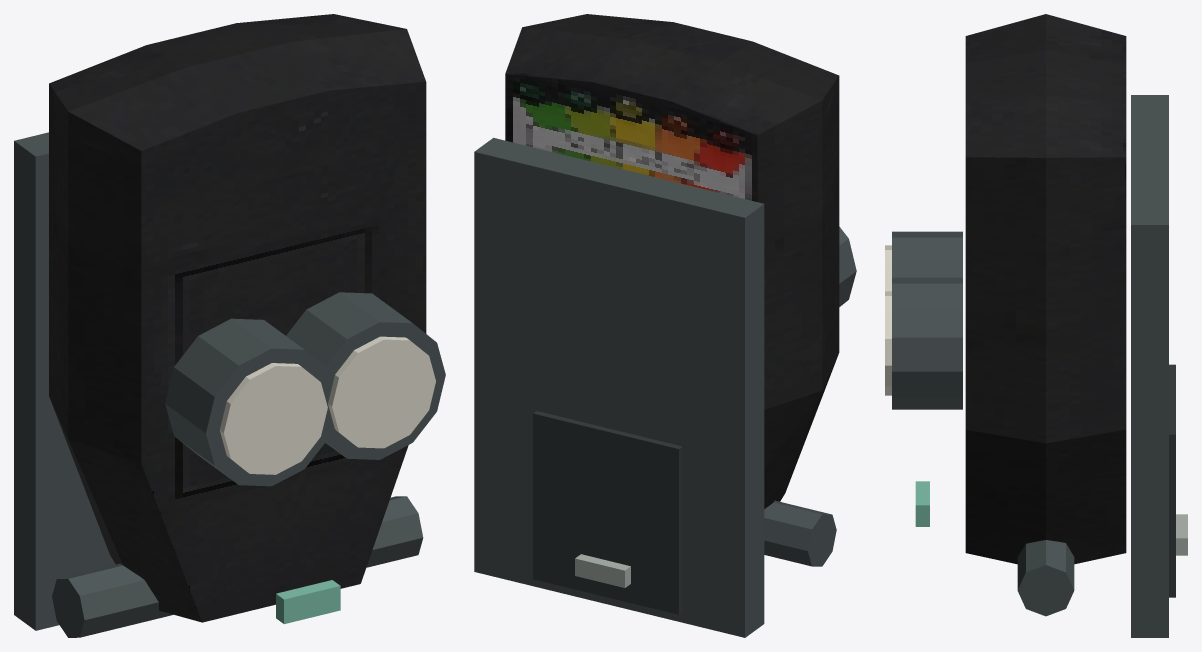
The model's file is blender_motion_sensor_2.glb.
3 views of the same model, side by side, from view 1: azimuth 30°, elevation 25°; view 2: azimuth 150°, elevation 25°; view 3: azimuth 270°, elevation 25° (orthographic). The views are drawn at different scales.
Visible parts, largest first — view 1: blender_motion_sensor_2; view 2: blender_motion_sensor_2; view 3: blender_motion_sensor_2.
Part boxes in pixels (x1,y1,x2,y2): blender_motion_sensor_2: (14,14,445,637); blender_motion_sensor_2: (474,14,856,637); blender_motion_sensor_2: (885,14,1187,637).
Size of the model in its own units: 0.072 by 0.1167 by 0.064.
Materials: 1 (1 with a texture image).
